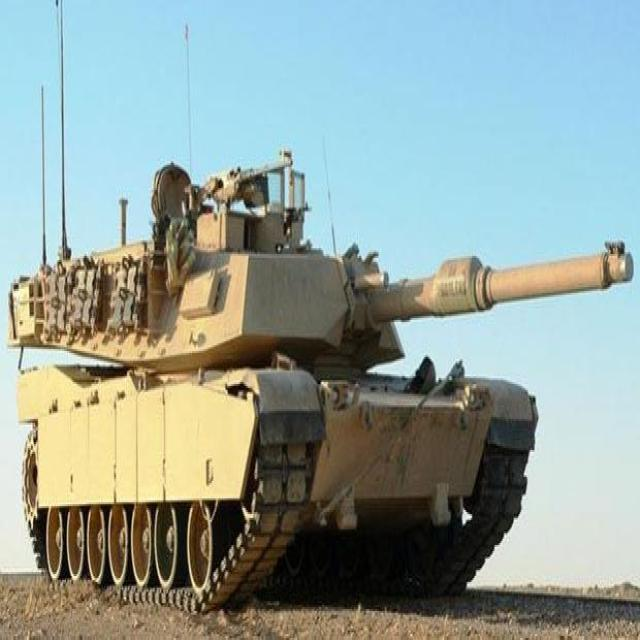MIL_MBT: (8, 173, 530, 611)
